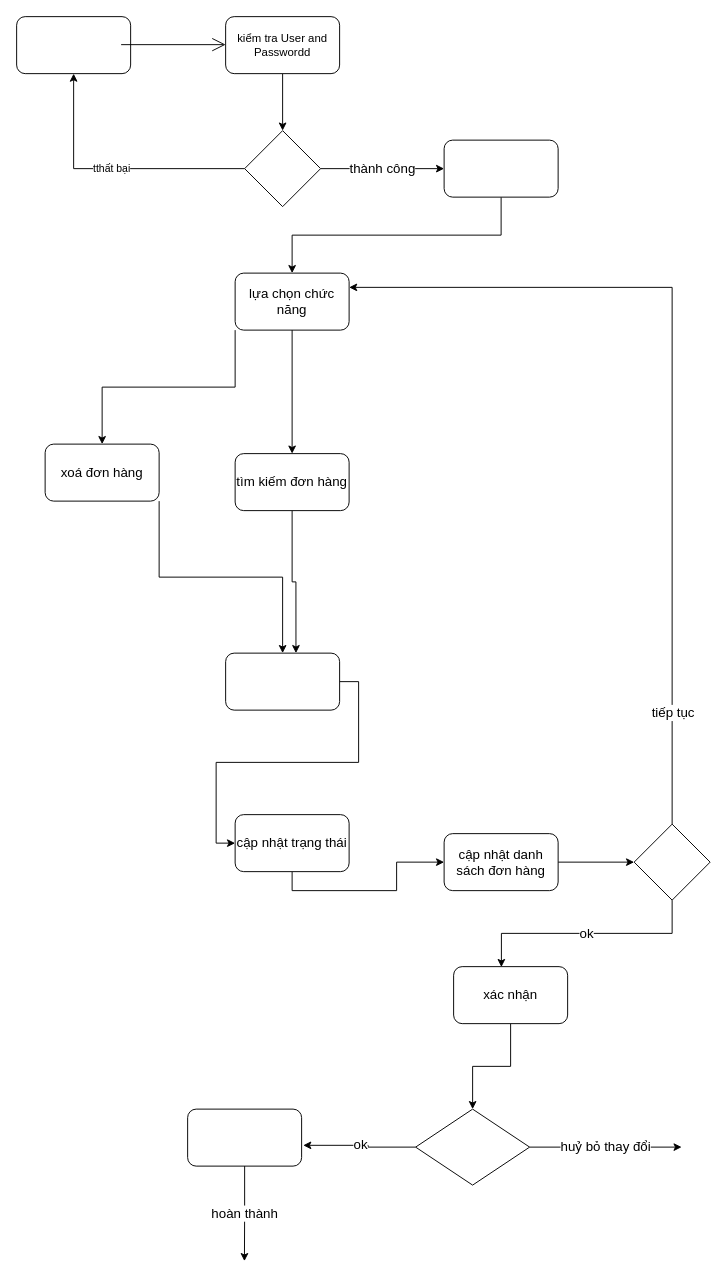
The diagram is 727 pixels wide and 1285 high, and some of its shapes have lost their labels. Here are the shapes that lost their labels. From the top down, the centre of each, then its label:
At (x=73, y=45): "admin đăng nhập".
At (x=500, y=168): "hiển thị danh sách đơn hàng".
At (x=282, y=681): "nhập thông tin đơn hàng".
At (x=244, y=1137): "thông báo thành công".
